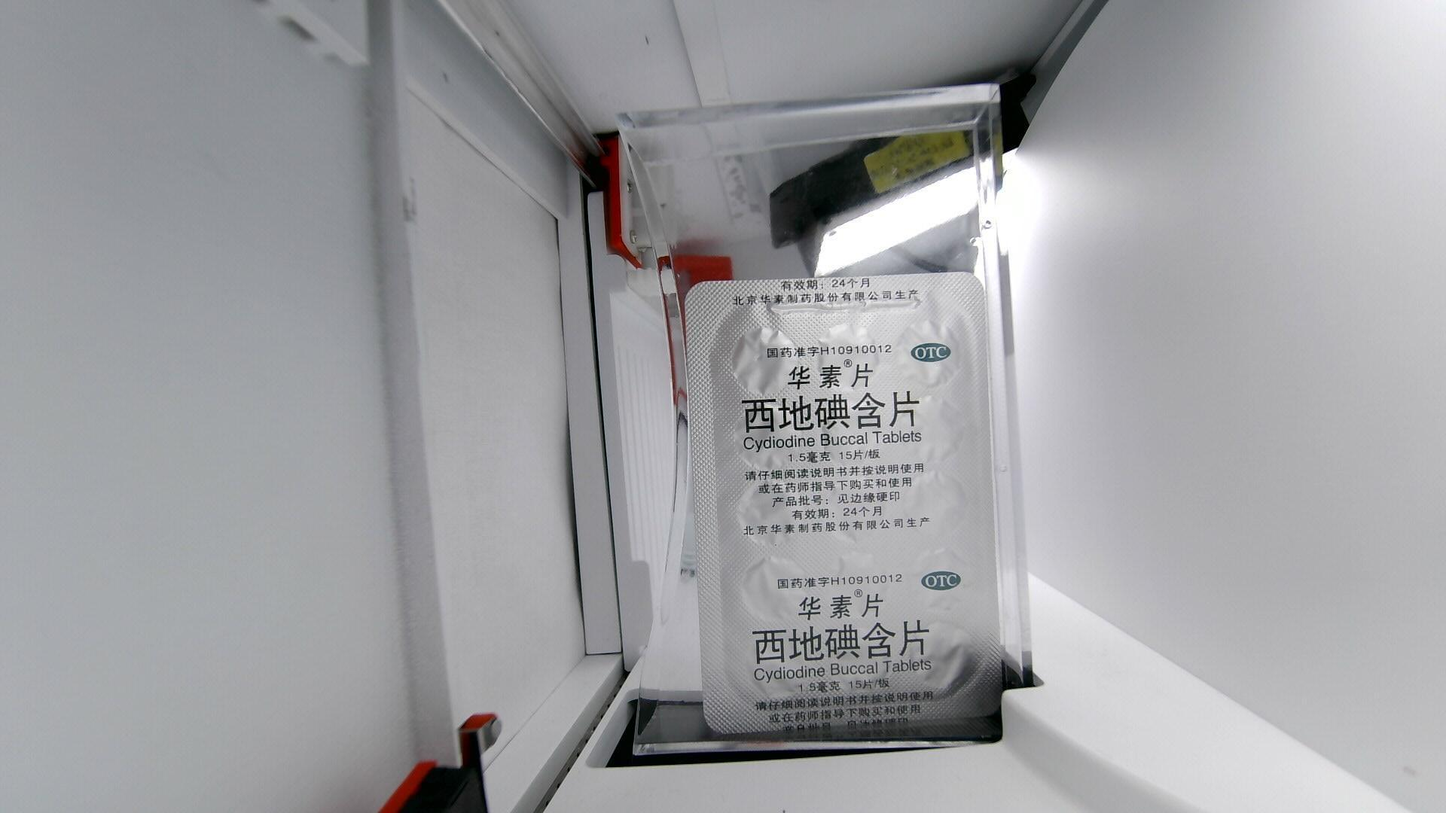Pill Back: (731, 323, 807, 394), (905, 626, 985, 693), (733, 477, 813, 533), (898, 320, 962, 387), (820, 397, 893, 455), (910, 550, 978, 612), (735, 406, 805, 466), (746, 551, 810, 615), (822, 632, 892, 689), (901, 475, 969, 533), (751, 631, 819, 689), (901, 397, 968, 454), (826, 476, 889, 534), (829, 555, 892, 610), (825, 325, 882, 382)
